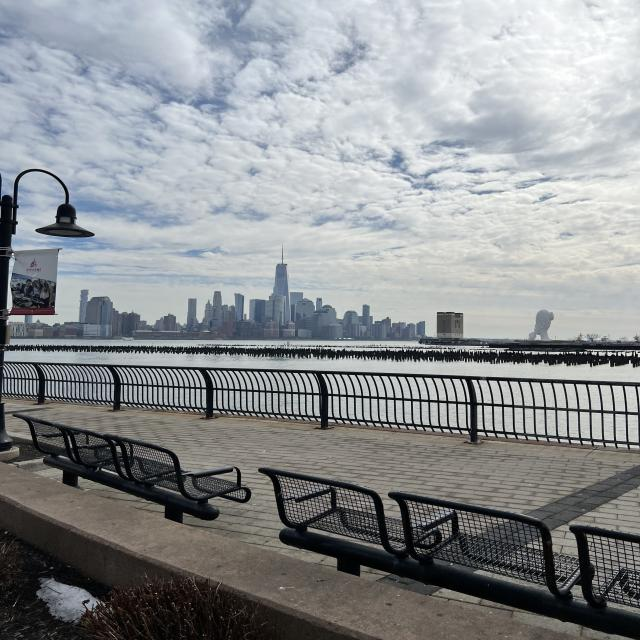WTC: (273, 245, 290, 298)
